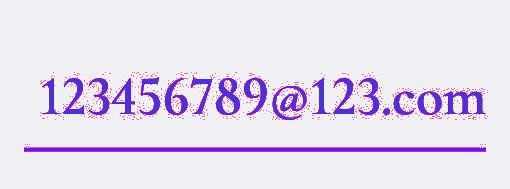EditText: (1, 1, 509, 188)
